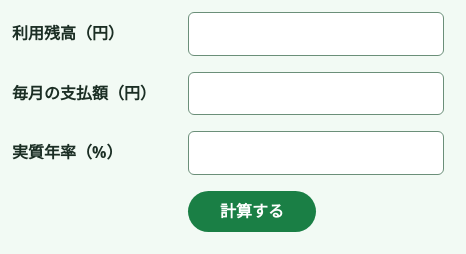
Scenario: カンマ付きの金額は、カンマを取り除いて送る（利用者が入れたカンマも。FR-016・FR-018）
In the field labelled "利用残高（円）": (316,34) x1=188 y1=12 x2=444 y2=56, type "1,00,000"
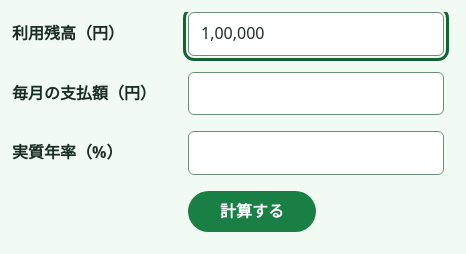
In the field labelled "毎月の支払額（円）": (316,93) x1=188 y1=72 x2=444 y2=115, type "10,000"
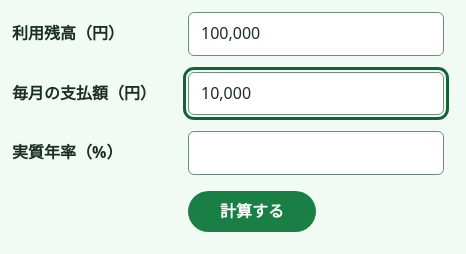
In the field labelled "実質年率（%）": (316,153) x1=188 y1=131 x2=444 y2=175, type "15"
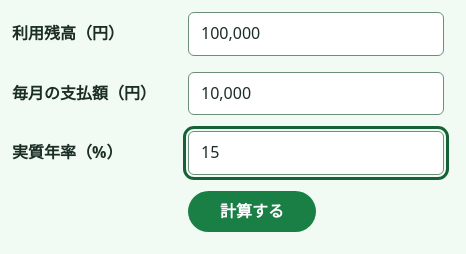
Click the button "計算する": (252,212) x1=188 y1=191 x2=316 y2=232
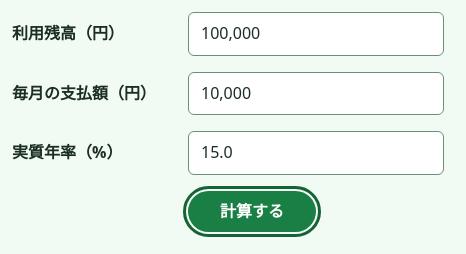
Expected: the field labelled "利用残高（円）" holds "100,000", x1=188 y1=12 x2=444 y2=56
Expected: the field labelled "実質年率（%）" holds "15.0", x1=188 y1=131 x2=444 y2=175
